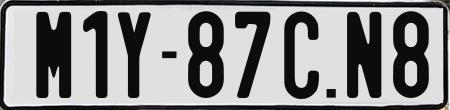1: (82, 8, 110, 96)
7: (233, 11, 273, 101)
8: (390, 10, 428, 103), (187, 9, 225, 97)
C: (282, 8, 318, 101)
M: (33, 12, 70, 100)
N: (344, 11, 383, 97)
Y: (116, 10, 150, 102)
